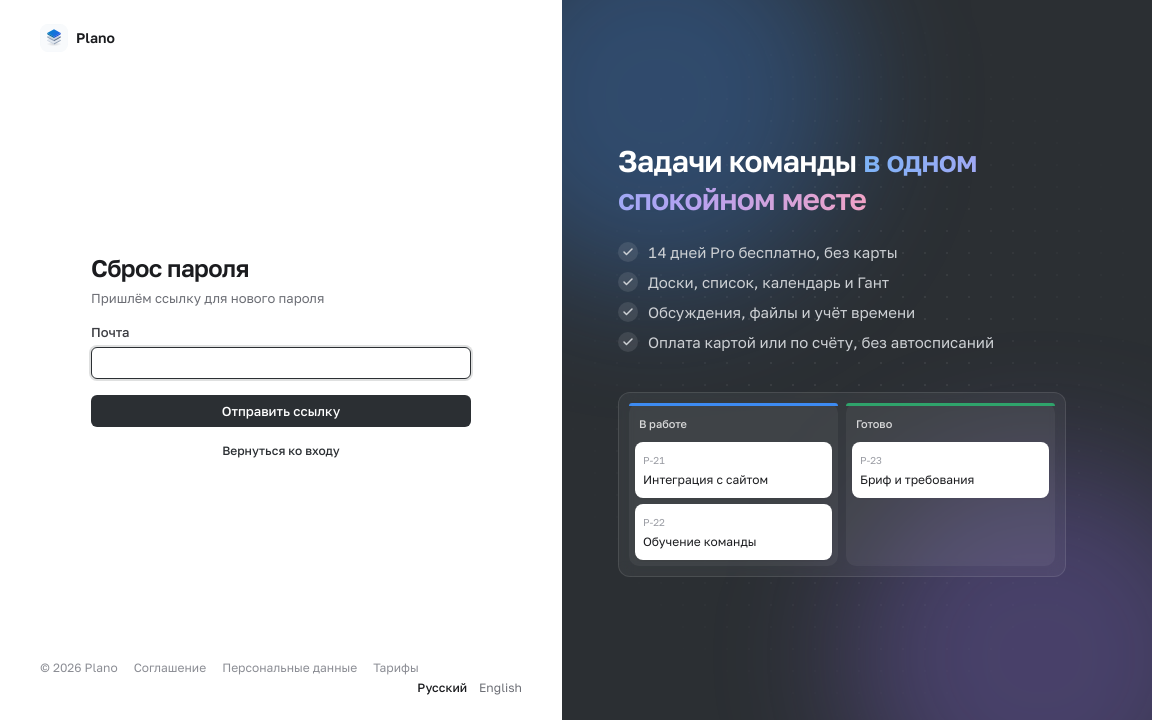
Test: password recovery › asks for the address and says the letter is on its way
In the field labelled "Почта": (281, 363) [91, 347, 471, 379], type "ivan@example.ru"
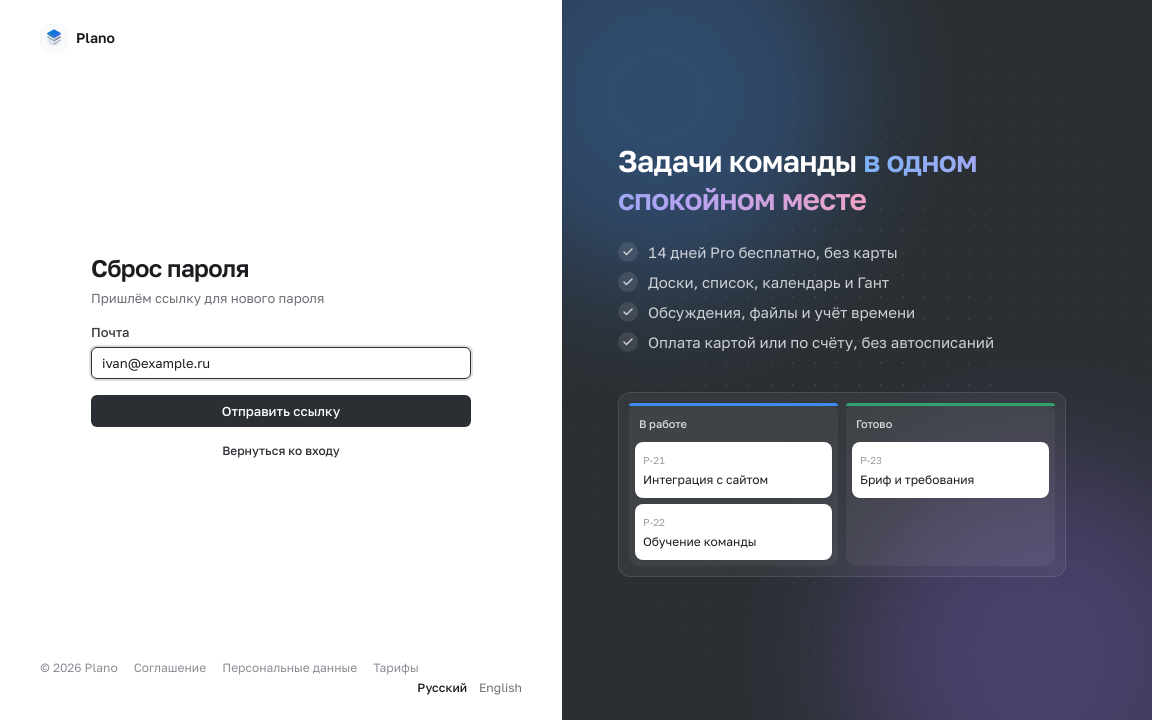
Click the button "Отправить ссылку": (281, 411) [91, 395, 471, 427]
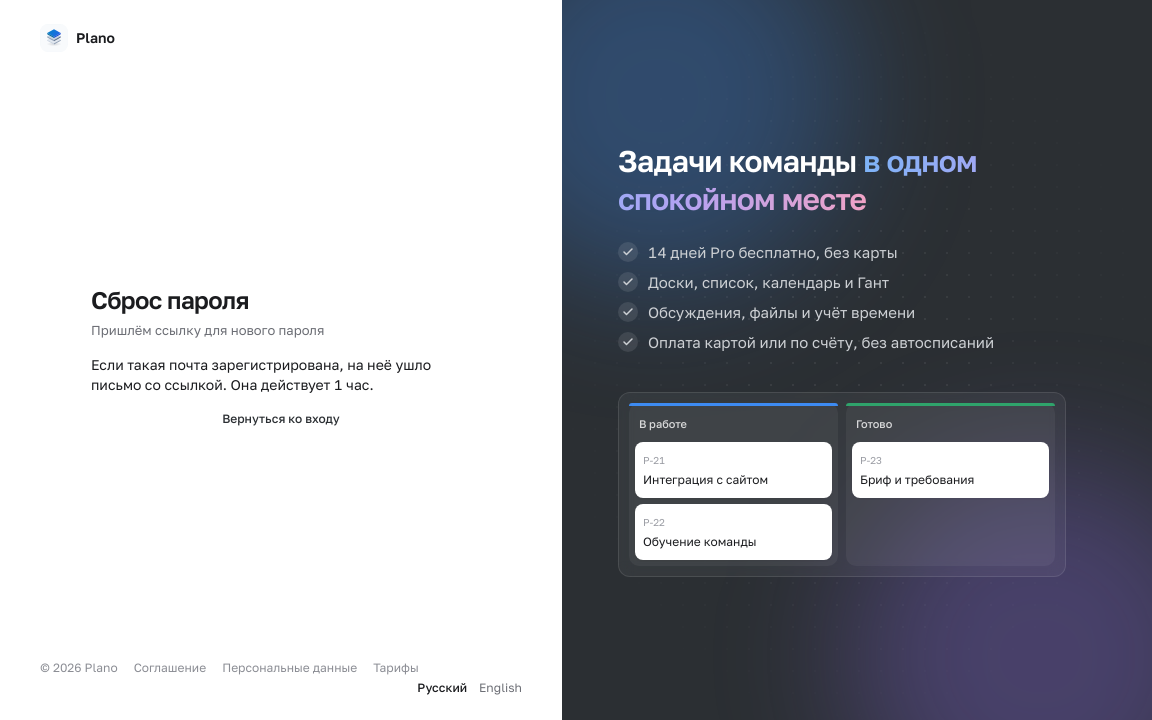
Result: the text "ушло письмо" is shown at [91, 356, 431, 393]
